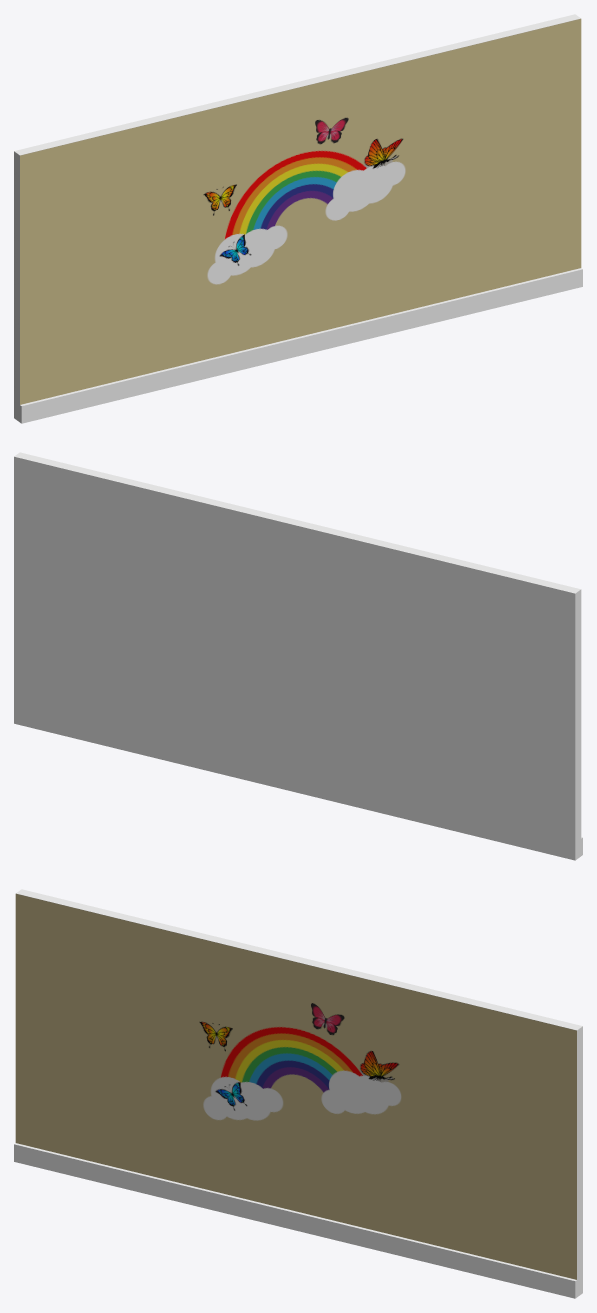
File: Wall 1.fbx
3 views of the same model, one above another, from view 1: azimuth 30°, elevation 25°; view 2: azimuth 150°, elevation 25°; view 3: azimuth 330°, elevation 25° (orthographic).
Visible parts, largest first — view 1: Wall 1; view 2: Wall 1; view 3: Wall 1.
Part boxes in pixels (<box>): Wall 1: <box>14,14,582,423</box>; Wall 1: <box>14,452,582,860</box>; Wall 1: <box>14,889,582,1298</box>.
Size of the model in its own units: 5500 by 2500 by 130.
1 material, 1 textured.
